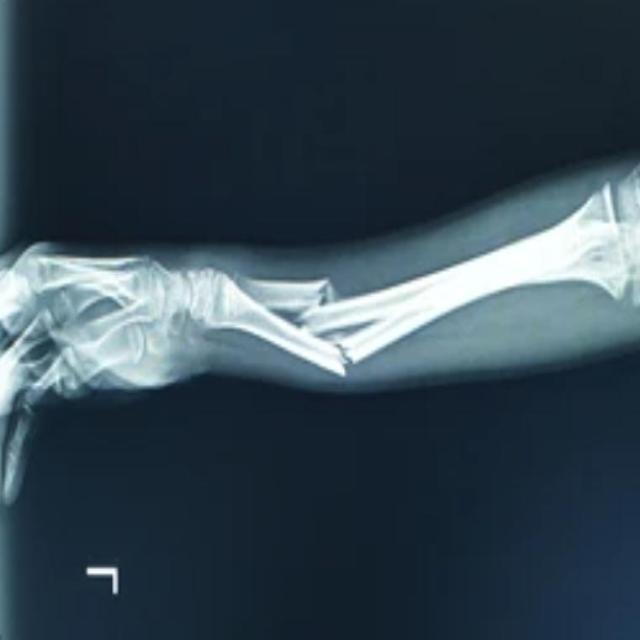bone: (293, 248, 372, 388)
